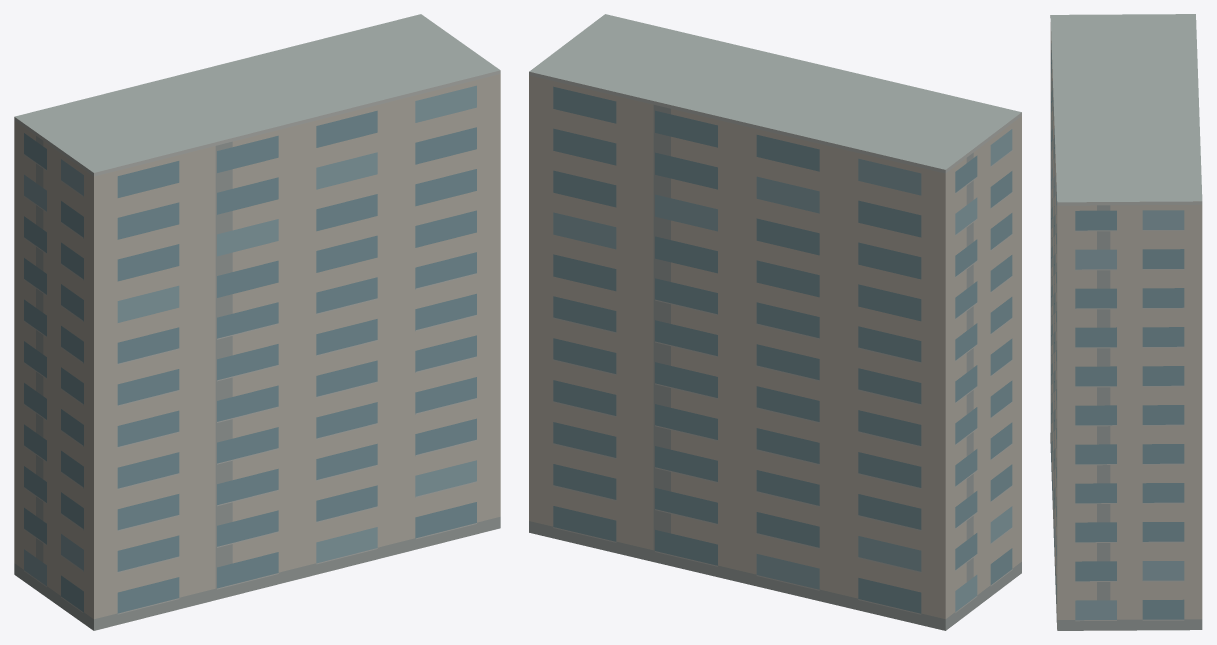
The model's file is residential-631d2301-1d04-4189-8560-16d9fd9607b8.glb.
3 views of the same model, side by side, from view 1: azimuth 30°, elevation 25°; view 2: azimuth 150°, elevation 25°; view 3: azimuth 270°, elevation 25° (orthographic). The views are drawn at different scales.
Visible parts, largest first — view 1: residential-631d2301-1d04-4189-8560-16d9fd9607b8.tmp; view 2: residential-631d2301-1d04-4189-8560-16d9fd9607b8.tmp; view 3: residential-631d2301-1d04-4189-8560-16d9fd9607b8.tmp.
Part boxes in pixels (left/top/right/bottom): residential-631d2301-1d04-4189-8560-16d9fd9607b8.tmp: left=14, top=14, right=500, bottom=630; residential-631d2301-1d04-4189-8560-16d9fd9607b8.tmp: left=529, top=14, right=1021, bottom=630; residential-631d2301-1d04-4189-8560-16d9fd9607b8.tmp: left=1050, top=14, right=1202, bottom=630.
Size of the model in its own units: 29.22 by 31 by 9.96.
